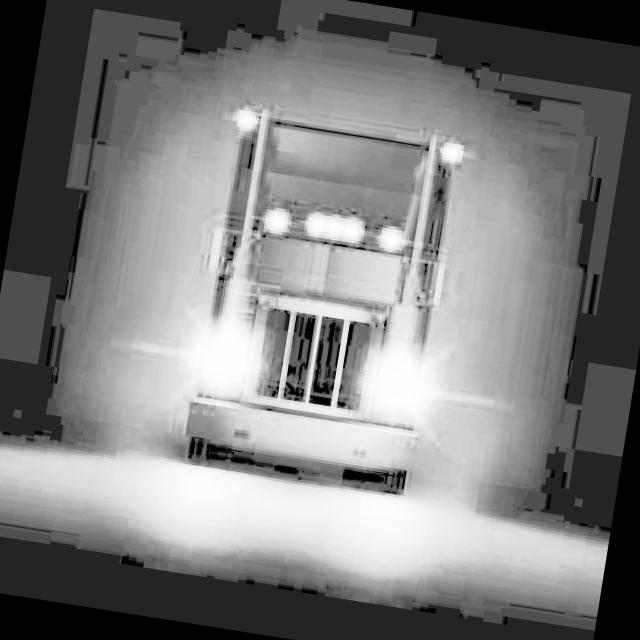Truck: (175, 94, 475, 498)
